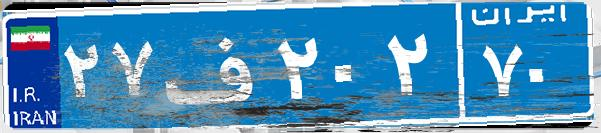0: (330, 28, 385, 110), (525, 38, 570, 115)
2: (385, 28, 445, 110), (273, 28, 330, 110), (57, 26, 110, 107)
7: (475, 38, 525, 113), (110, 28, 158, 105)
ف: (158, 15, 273, 115)
